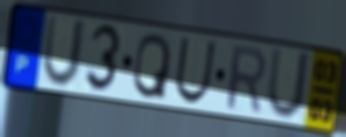3: (81, 23, 126, 96)
Q: (131, 31, 173, 102)
R: (224, 43, 268, 116)
U: (39, 13, 90, 91), (264, 45, 314, 123), (172, 35, 219, 106)
